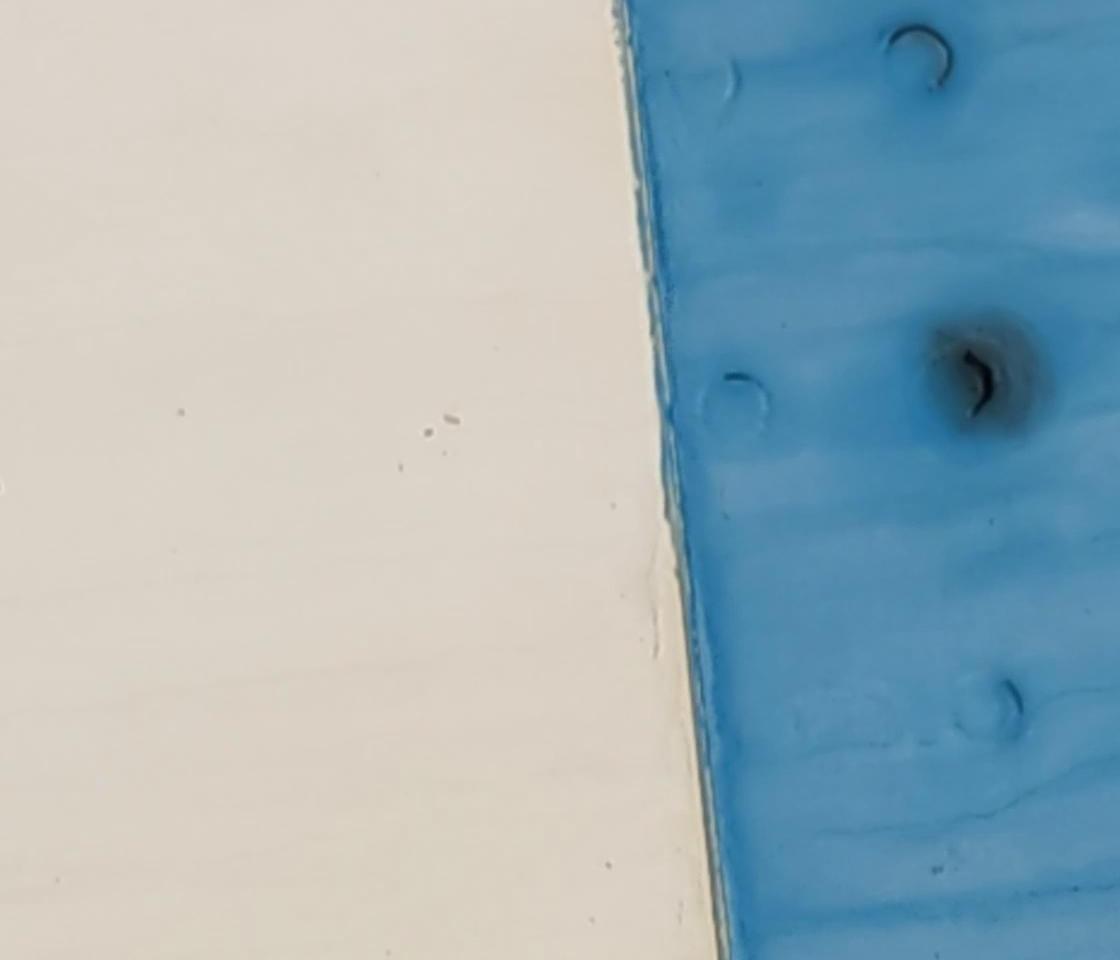scratch: (951, 342, 1005, 426)
